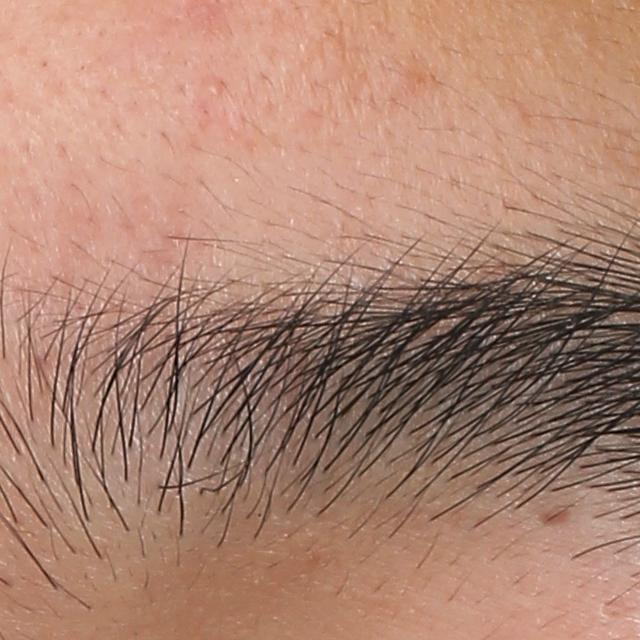comedo: (208, 78, 224, 95)
